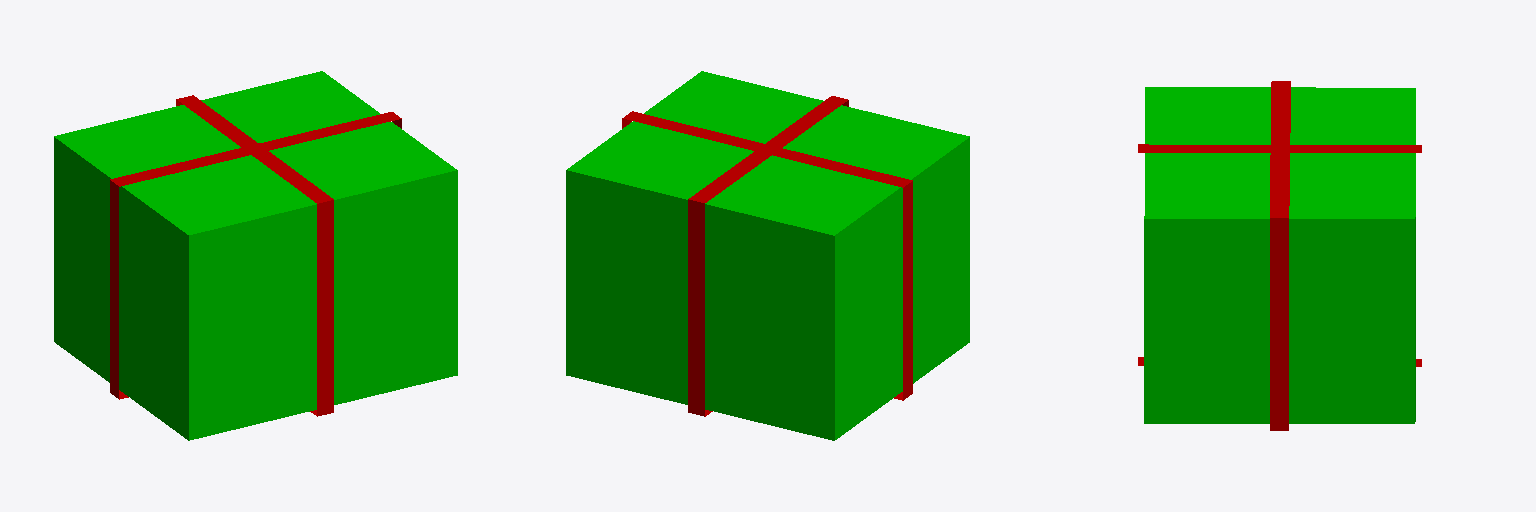
File: present.obj
3 views of the same model, side by side, from view 1: azimuth 30°, elevation 25°; view 2: azimuth 150°, elevation 25°; view 3: azimuth 270°, elevation 25° (orthographic).
Parts seen in each view (by area): view 1: Cube_Cube.001, Plane; view 2: Cube_Cube.001, Plane; view 3: Cube_Cube.001, Plane.
Part boxes in pixels (bbox=[...]): Cube_Cube.001: bbox=[54, 71, 457, 440]; Plane: bbox=[110, 95, 401, 416]; Cube_Cube.001: bbox=[566, 71, 969, 440]; Plane: bbox=[622, 96, 912, 416]; Cube_Cube.001: bbox=[1144, 87, 1415, 423]; Plane: bbox=[1138, 81, 1421, 430].
Bounding box in the file's own units: 2.74 × 1.98 × 2.4.